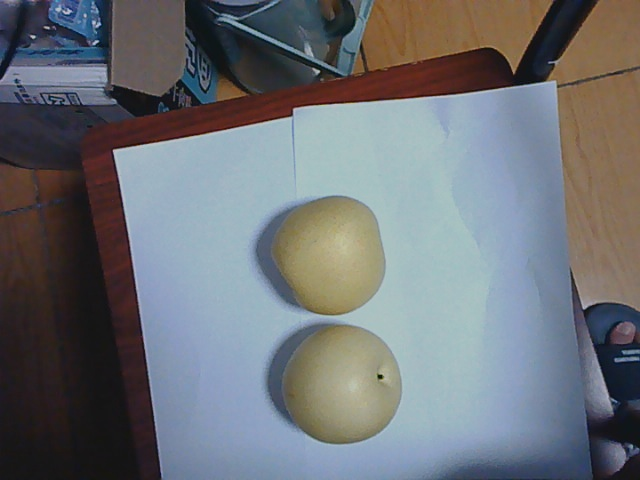pear: (278, 322, 402, 444), (269, 203, 391, 314)
